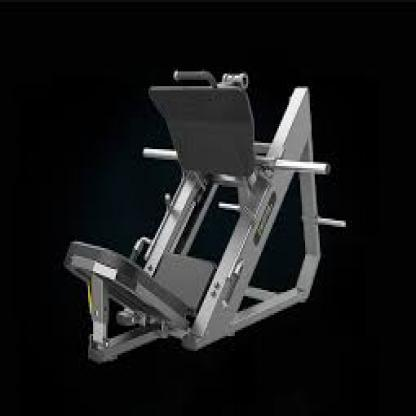leg press: (52, 47, 365, 371)
